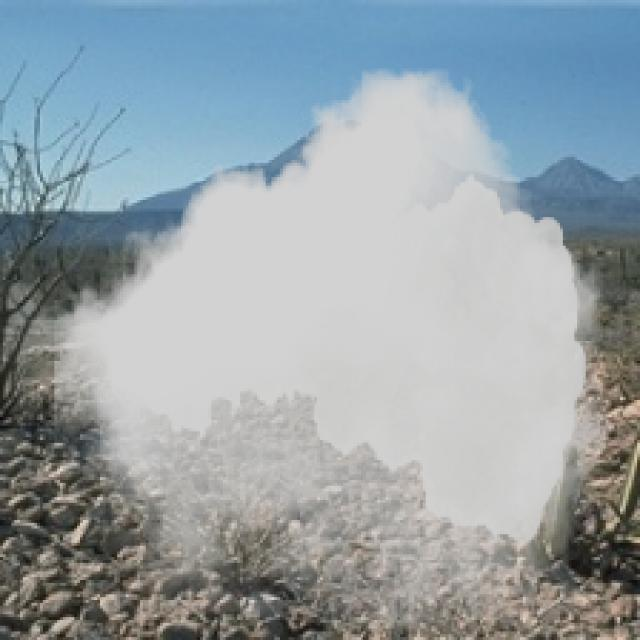Smoke: (54, 69, 612, 628)
